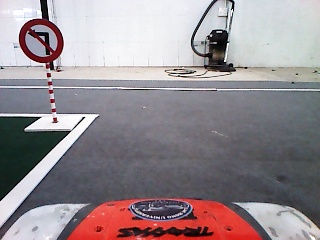ban: (17, 17, 67, 66)
